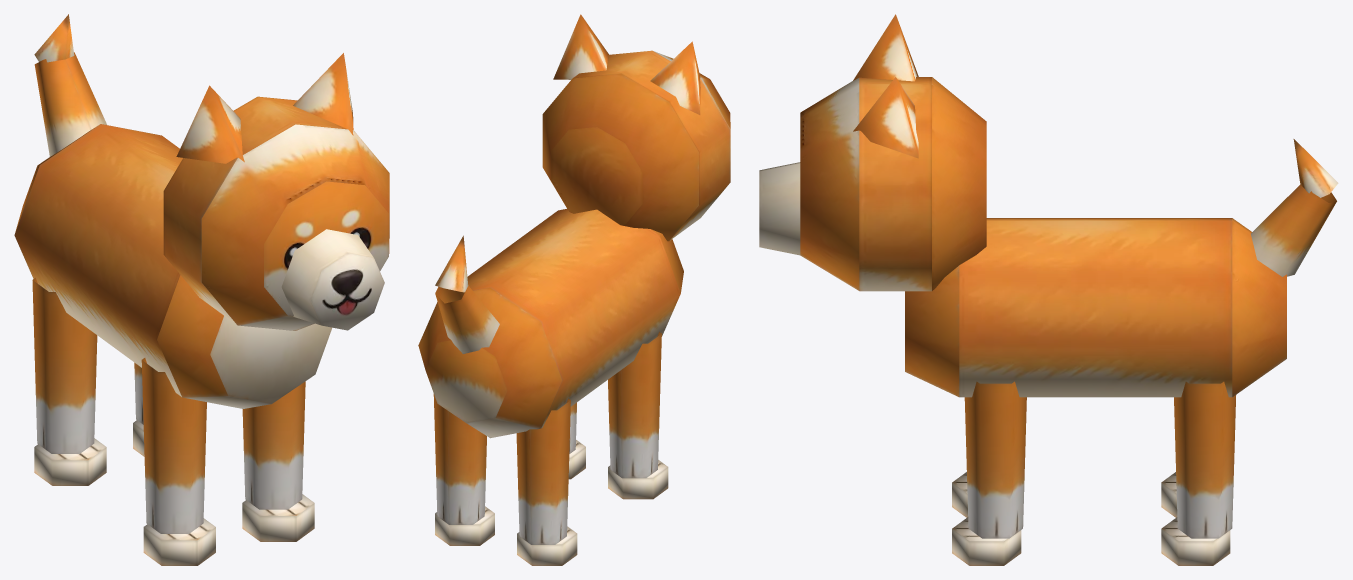
Rendered from dog.glb.
3 views of the same model, side by side, from view 1: azimuth 30°, elevation 25°; view 2: azimuth 150°, elevation 25°; view 3: azimuth 270°, elevation 25° (orthographic). The views are drawn at different scales.
Parts seen in each view (by area): view 1: GEO-dog; view 2: GEO-dog; view 3: GEO-dog.
Boxes of the visible parts, <box> form: GEO-dog: <box>14,14,389,565</box>; GEO-dog: <box>418,14,730,565</box>; GEO-dog: <box>759,14,1338,565</box>.
Size of the model in its own units: 0.2283 by 0.5883 by 0.6369.
1 material, 1 textured.
